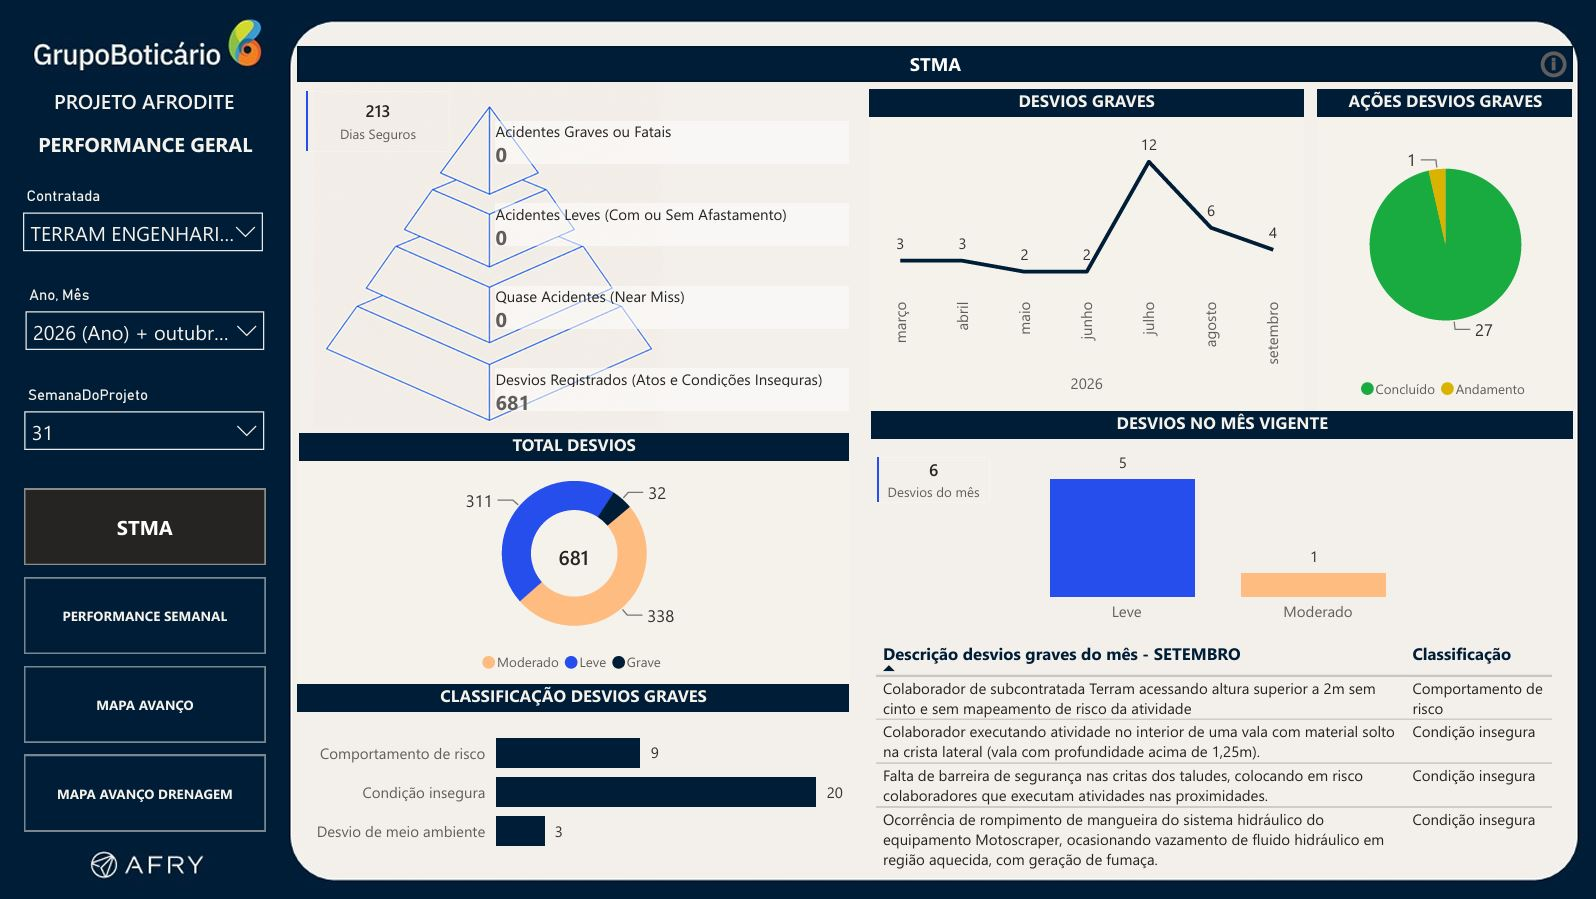

What the dashboard file says about the page in this screenshot:
{"tool":"powerbi","page":{"name":"STMA ","canvas":[1280,720],"ordinal":4},"visuals":[{"type":"image","box":[215.9,64.6,353,278.9],"z":0},{"type":"slicer","fields":{"Values":["Dados Contrato.Contratada"]},"box":[9.9,144.7,212.3,80],"z":1000},{"type":"slicer","fields":{"Values":["dCalendario.Date.Variation.Hierarquia de datas.Ano","dCalendario.Date.Variation.Hierarquia de datas.Mês"]},"box":[12.2,224.4,210.9,79.8],"z":2000},{"type":"pageNavigator","box":[20.9,390.9,192.7,275.5],"z":3000},{"type":"textbox","box":[10.8,64.9,212.2,36.5],"z":4000},{"type":"textbox","box":[12.2,100,212.2,36.5],"z":5000},{"type":"shape","box":[239.9,37.2,1019.7,27.6],"z":6000},{"type":"advancedSlicerVisual","fields":{"Label":["Max(STMA.Resultado)"],"Values":["Ordenação.Status"]},"box":[380.8,80.5,317.2,268.5],"z":7000},{"type":"donutChart","title":"TOTAL DESVIOS","fields":{"Category":["Desvios STMA.Potencial de Gravidade"],"Y":["Count(Desvios STMA.ID)"]},"box":[240.8,346.8,440.6,201.4],"z":8000},{"type":"cardVisual","title":"CURVA FÍSICA SEMANA","fields":{"Data":["Sum(STMA.Resultado)"]},"box":[241.5,68.1,124.2,57.8],"z":9000},{"type":"cardVisual","title":"CURVA FÍSICA SEMANA","fields":{"Data":["Count(Desvios STMA.ID)"]},"box":[436.1,427,49.2,34.5],"z":10000},{"type":"pieChart","title":"AÇÕES DESVIOS GRAVES","fields":{"Category":["Ações Desvios.Status"],"Y":["Count(Ações Desvios.Ação)"]},"box":[1055.7,71.6,204.4,257.9],"z":11000},{"type":"slicer","fields":{"Values":["dCalendario.SemanaDoProjeto"]},"box":[10.8,304.1,212.2,79.8],"z":12000},{"type":"lineChart","title":"DESVIOS GRAVES","fields":{"Category":["dCalendario.Date.Variation.Hierarquia de datas.Ano","dCalendario.Date.Variation.Hierarquia de datas.Mês"],"Series":["Desvios STMA.Potencial de Gravidade"],"Y2":["Count(Desvios STMA.ID)"]},"box":[696.9,71.6,347.6,257.9],"z":13000},{"type":"actionButton","box":[1229.7,33.6,29.1,35.8],"z":14000},{"type":"barChart","title":"CLASSIFICAÇÃO DESVIOS GRAVES","fields":{"Category":["Desvios STMA.tp_desvio"],"Series":["Desvios STMA.Potencial de Gravidade"],"Y":["Count(Desvios STMA.ID)"]},"box":[239.8,547.7,441.6,148.4],"z":15000},{"type":"columnChart","title":"DESVIOS NO MÊS VIGENTE","fields":{"Category":["Desvios STMA.Potencial de Gravidade"],"Y":["Count(Desvios STMA.ID)"]},"box":[698.7,329.5,561.5,178.5],"z":16000},{"type":"cardVisual","title":"CURVA FÍSICA SEMANA","fields":{"Data":["Count(Desvios STMA.ID)"]},"box":[698.7,360.5,99.4,46.8],"z":17000},{"type":"tableEx","title":"CLASSIFICAÇÃO DESVIOS GRAVES","fields":{"Values":["Desvios STMA.Descrição macro","Desvios STMA.tp_desvio"]},"box":[696.9,508,563.2,201.8],"z":18000}]}

Visuals, with their boxes in screenshot pixels (x1, y1, x2, y2), scaled from the page's 1280x720 canvas onto the 1596x899 screenshot:
image: pyautogui.locateOnScreen(269, 81, 709, 429)
slicer - Dados Contrato.Contratada: pyautogui.locateOnScreen(12, 181, 277, 281)
slicer - dCalendario.Date.Variation.Hierarquia de datas.Ano x dCalendario.Date.Variation.Hierarquia de datas.Mês: pyautogui.locateOnScreen(15, 280, 278, 380)
pageNavigator: pyautogui.locateOnScreen(26, 488, 266, 832)
textbox: pyautogui.locateOnScreen(13, 81, 278, 127)
textbox: pyautogui.locateOnScreen(15, 125, 280, 170)
shape: pyautogui.locateOnScreen(299, 46, 1571, 81)
advancedSlicerVisual - Max(STMA.Resultado) x Ordenação.Status: pyautogui.locateOnScreen(475, 101, 870, 436)
"TOTAL DESVIOS" donutChart: pyautogui.locateOnScreen(300, 433, 850, 684)
"CURVA FÍSICA SEMANA" cardVisual: pyautogui.locateOnScreen(301, 85, 456, 157)
"CURVA FÍSICA SEMANA" cardVisual: pyautogui.locateOnScreen(544, 533, 605, 576)
"AÇÕES DESVIOS GRAVES" pieChart: pyautogui.locateOnScreen(1316, 89, 1571, 411)
slicer - dCalendario.SemanaDoProjeto: pyautogui.locateOnScreen(13, 380, 278, 479)
"DESVIOS GRAVES" lineChart: pyautogui.locateOnScreen(869, 89, 1302, 411)
actionButton: pyautogui.locateOnScreen(1533, 42, 1570, 87)
"CLASSIFICAÇÃO DESVIOS GRAVES" barChart: pyautogui.locateOnScreen(299, 684, 850, 869)
"DESVIOS NO MÊS VIGENTE" columnChart: pyautogui.locateOnScreen(871, 411, 1571, 634)
"CURVA FÍSICA SEMANA" cardVisual: pyautogui.locateOnScreen(871, 450, 995, 509)
"CLASSIFICAÇÃO DESVIOS GRAVES" tableEx: pyautogui.locateOnScreen(869, 634, 1571, 886)
